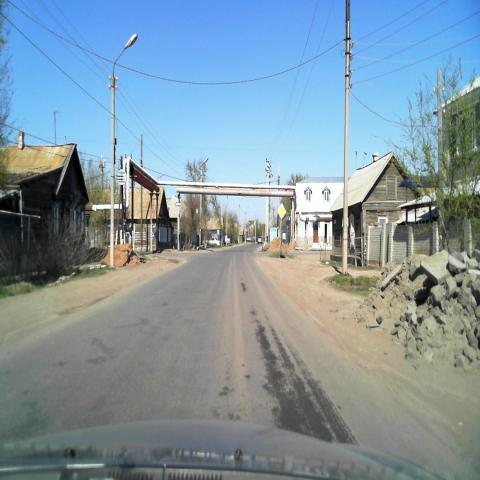2_1: (276, 202, 286, 220)
